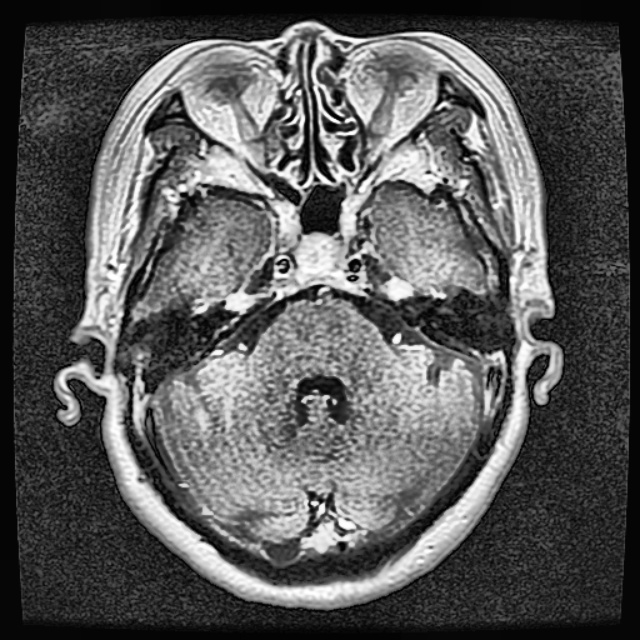Pituitary: (293, 233, 343, 274)
